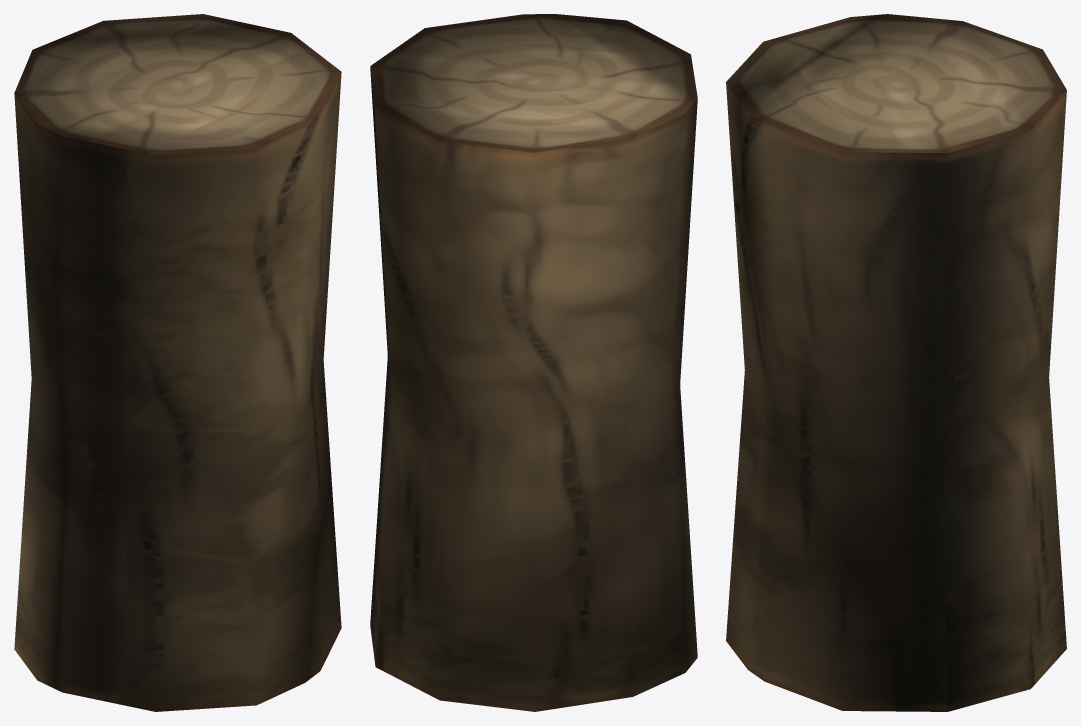
File: TreeLog.fbx
3 views of the same model, side by side, from view 1: azimuth 30°, elevation 25°; view 2: azimuth 150°, elevation 25°; view 3: azimuth 270°, elevation 25° (orthographic).
Parts seen in each view (by area): view 1: Mesh; view 2: Mesh; view 3: Mesh.
Boxes of the visible parts, x1=… form: Mesh: x1=14, y1=14, x2=341, y2=711; Mesh: x1=370, y1=14, x2=697, y2=711; Mesh: x1=726, y1=14, x2=1066, y2=711.
Size of the model in its own units: 23.97 by 44.9 by 24.83.
